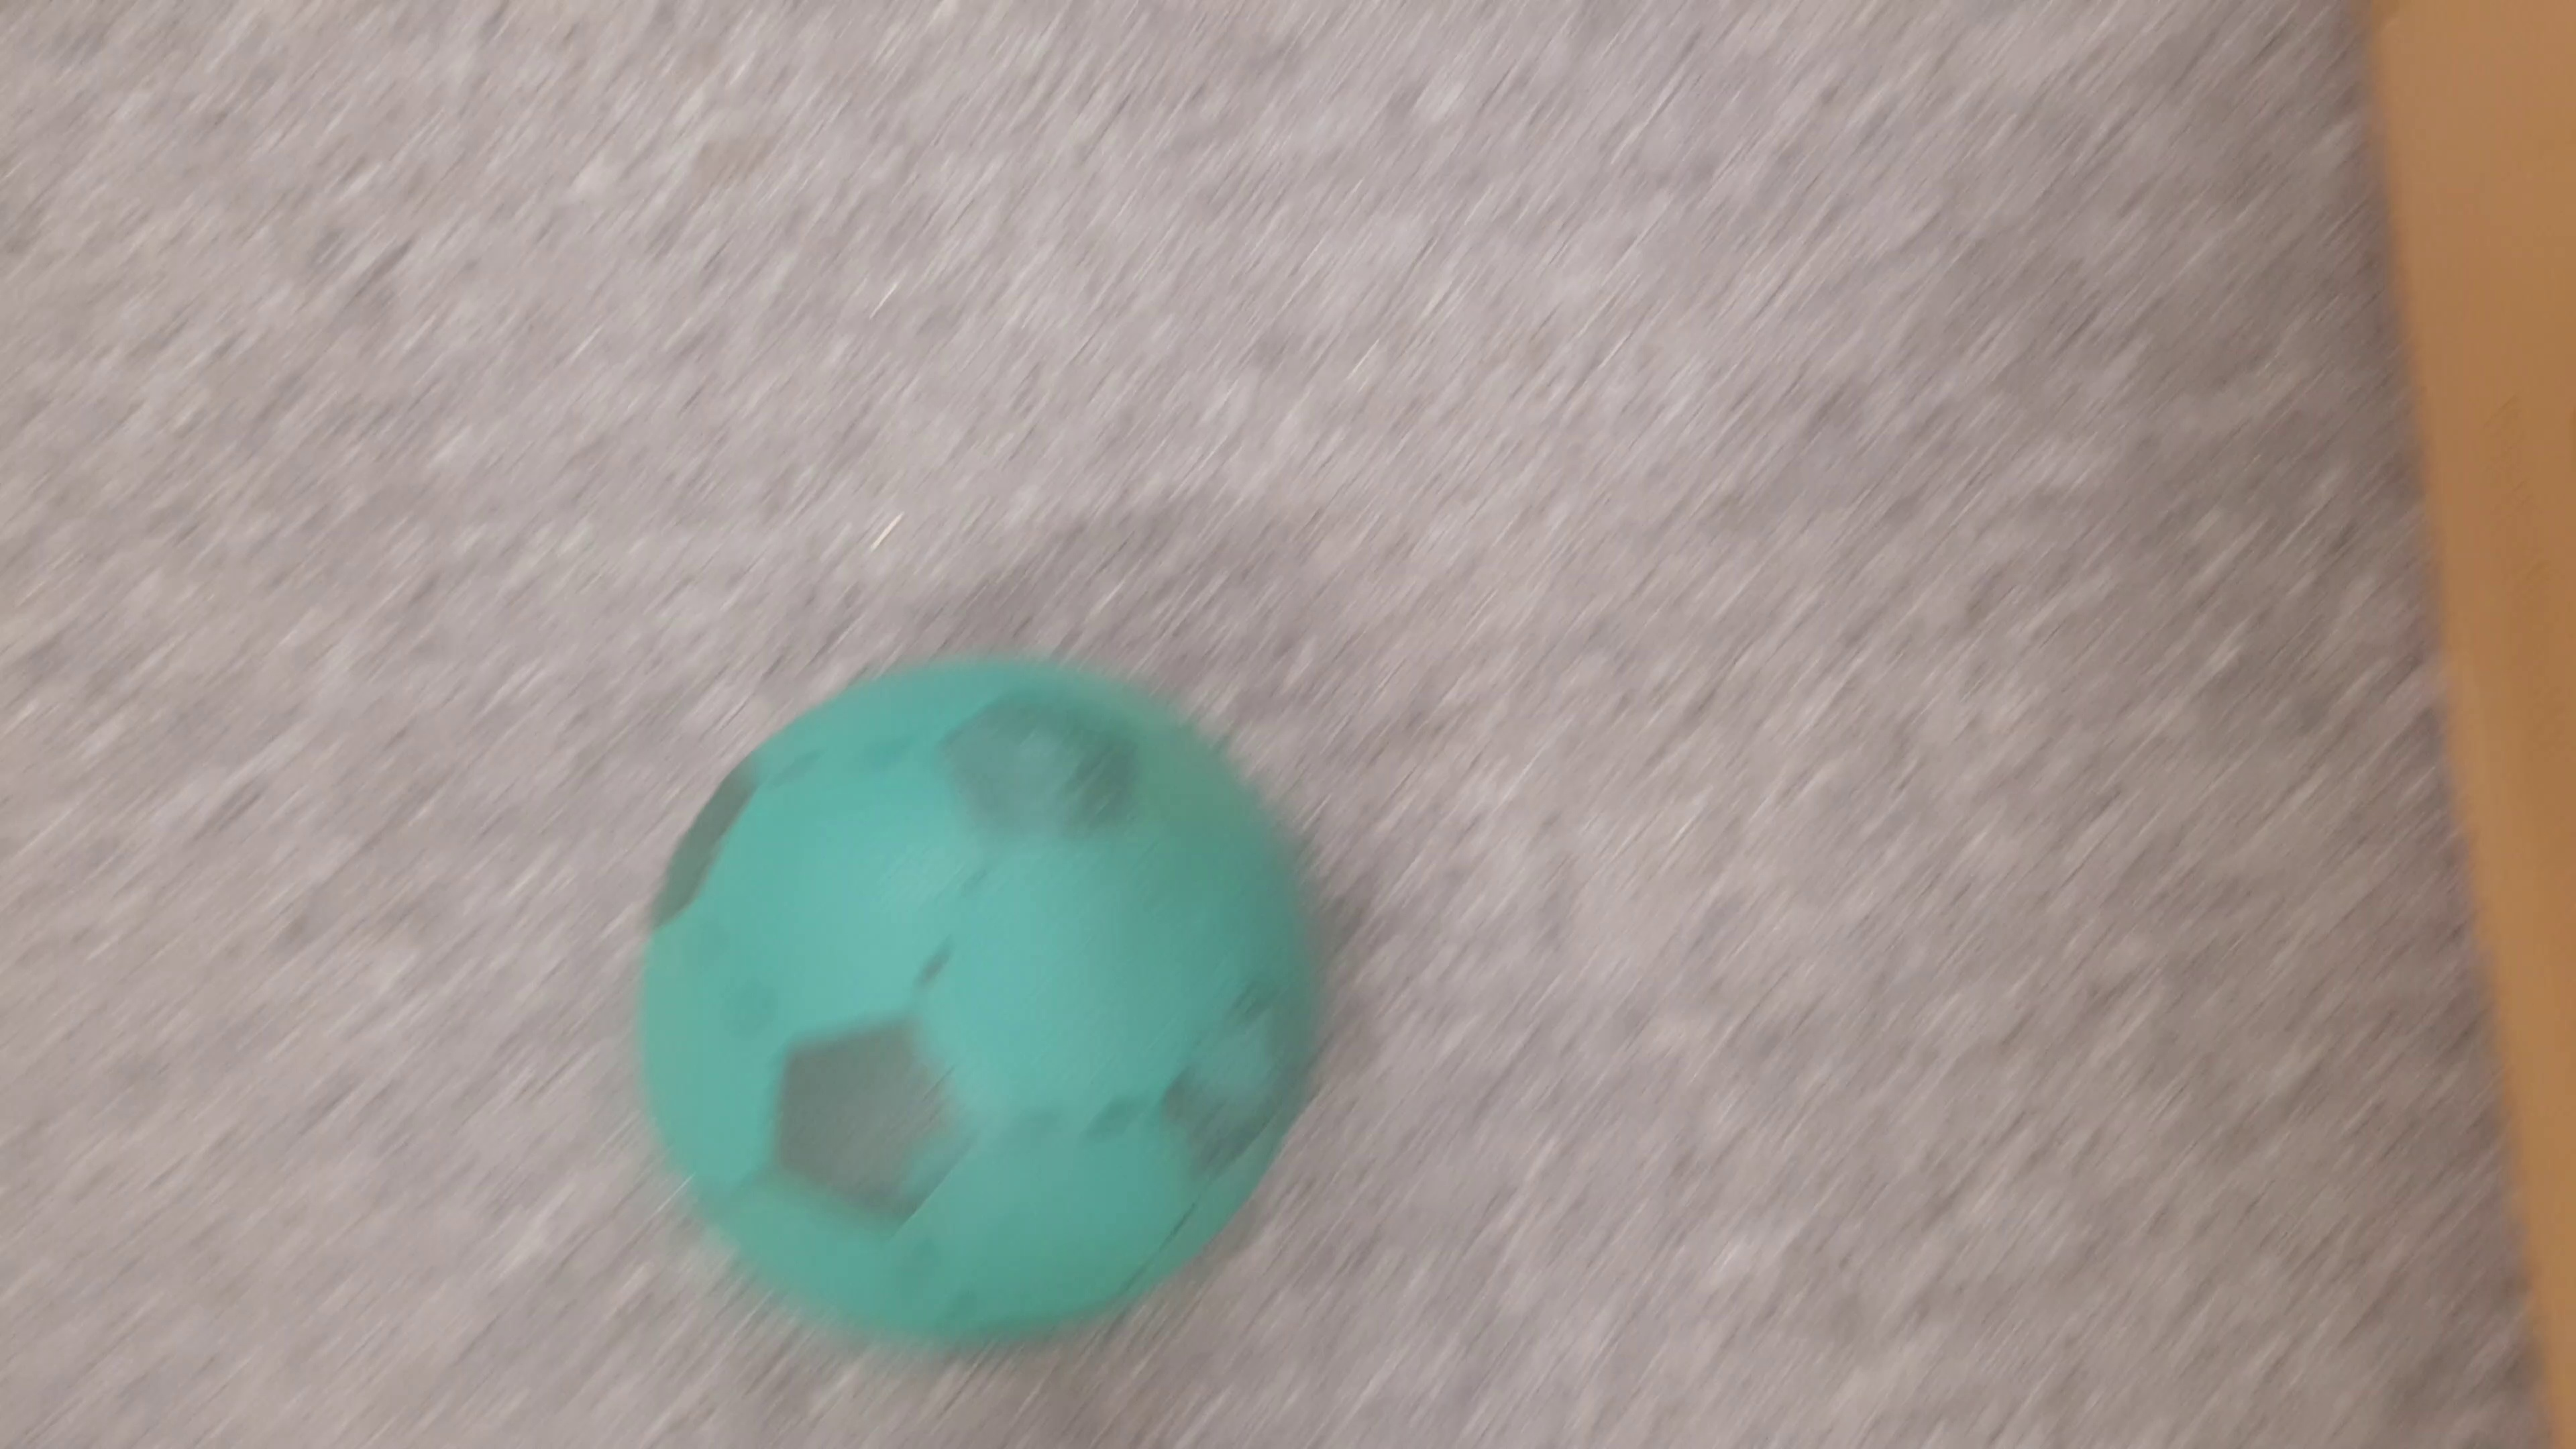kick: (642, 655, 1322, 1341)
